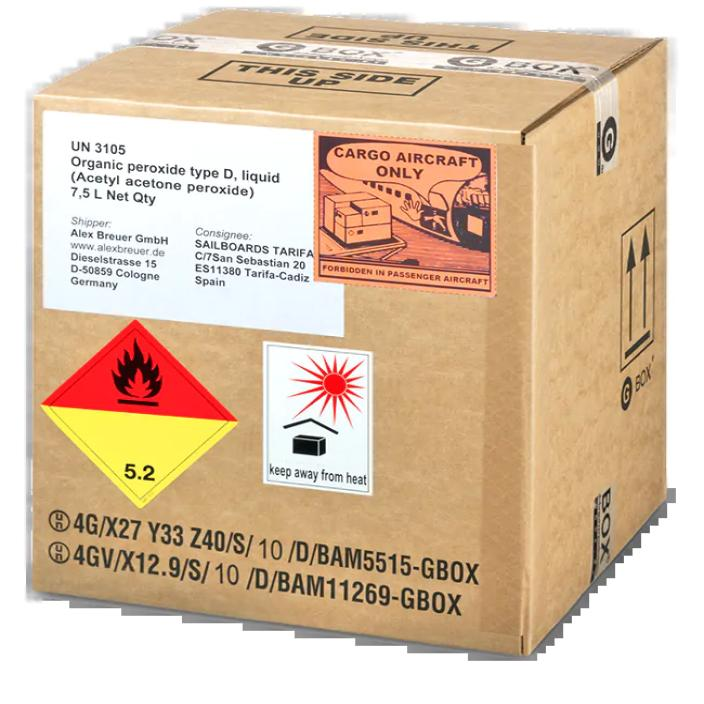defibrillator: (44, 320, 236, 507)
